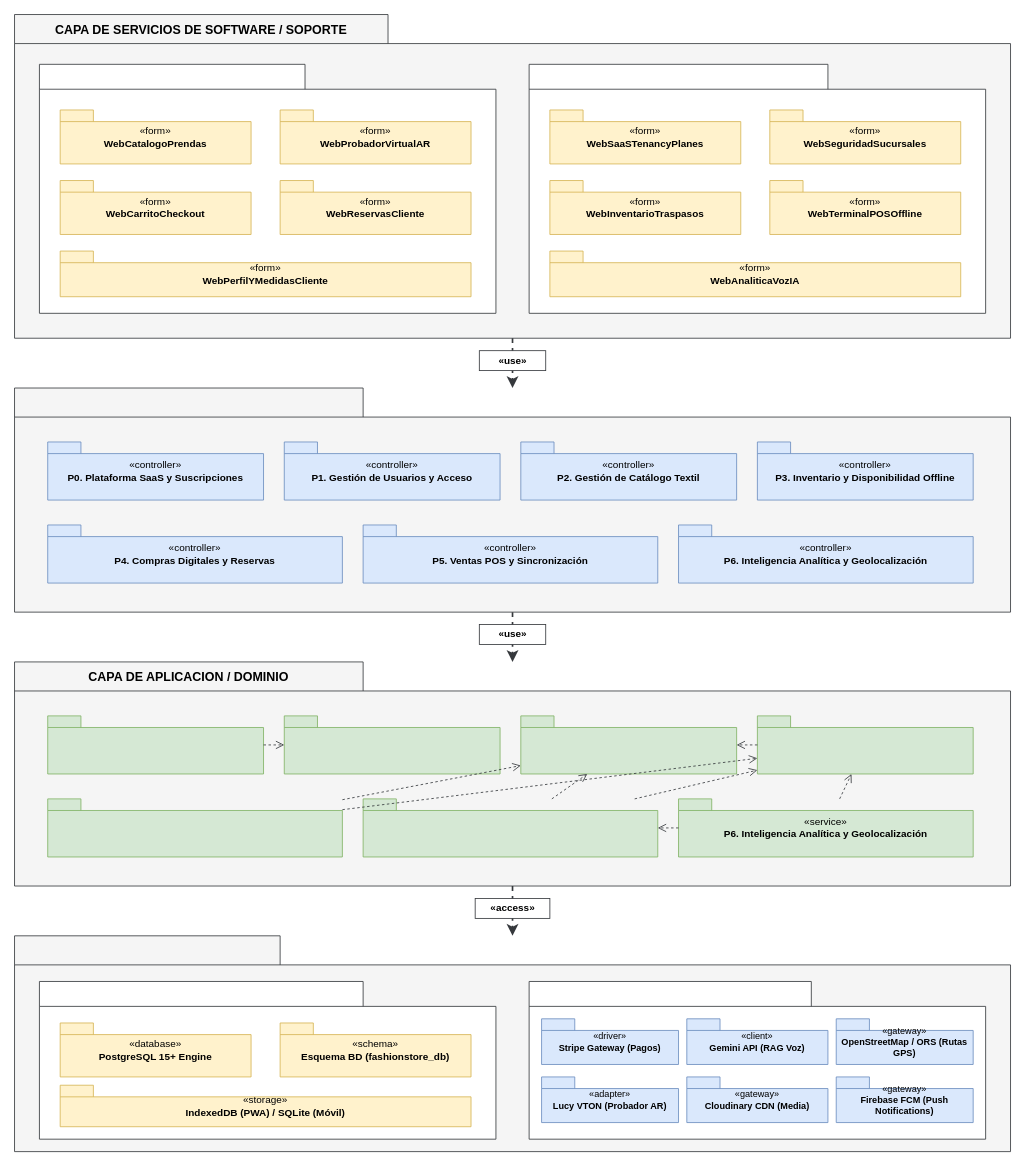
This 1025x1166 diagram has some shape labels left out. The box of each missing label's shape, as (x1, y1, x2, y2) in pixels:
Adaptadores & Gateways Cloud Externos: (528, 981, 986, 1139)
CAPA DE INFRAESTRUCTURA: (14, 935, 1011, 1152)
CAPA ESPECIFICA DE LA APLICACION: (14, 387, 1011, 612)
Dashboard SaaS & Terminal POS Sucursal: (528, 63, 986, 313)
PostgreSQL 15+ — Base de Datos Central Multitenant: (39, 981, 496, 1139)
Tienda Online & Portal Cliente PWA: (39, 63, 496, 313)
«service» P0. Plataforma SaaS y Suscripciones: (47, 715, 264, 774)
«service» P1. Gestión de Usuarios y Acceso: (283, 715, 500, 774)
«service» P2. Gestión de Catálogo Textil: (520, 715, 737, 774)
«service» P3. Inventario y Disponibilidad Offline: (757, 715, 973, 774)
«service» P4. Compras Digitales y Reservas: (47, 798, 342, 857)
«service» P5. Ventas POS y Sincronización: (362, 798, 658, 857)
